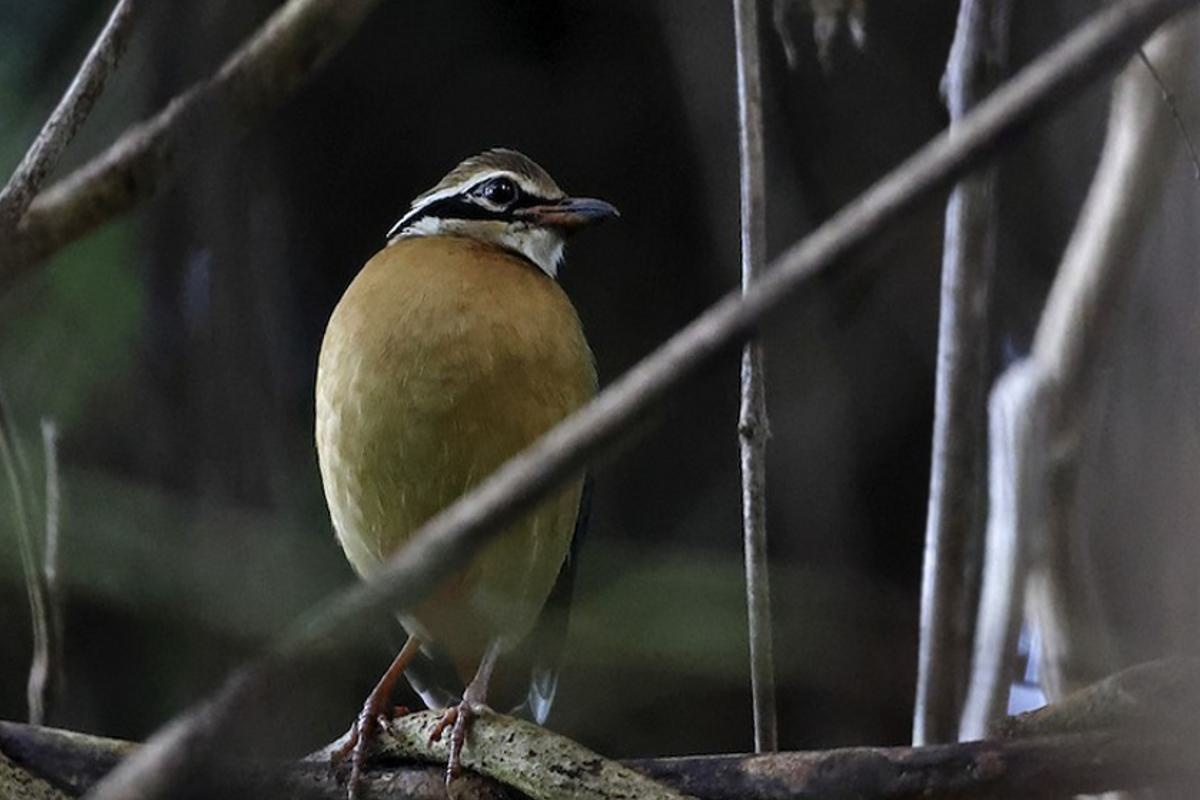pitta: (326, 123, 651, 730)
